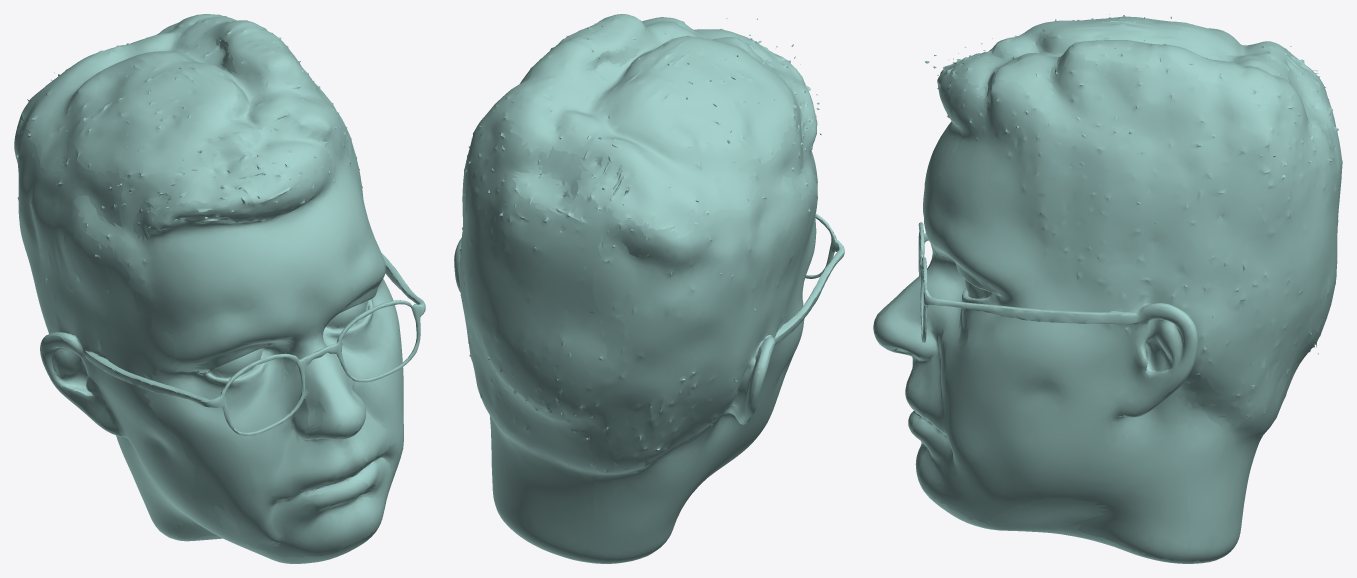
Rendered from head.glb.
The picture shows the model from 3 angles, left to right: view 1: azimuth 30°, elevation 25°; view 2: azimuth 150°, elevation 25°; view 3: azimuth 270°, elevation 25°; orthographic projection. The views are drawn at different scales.
Visible parts, largest first — view 1: Geometry; view 2: Geometry; view 3: Geometry.
Part boxes in pixels (left/top/right/bottom): Geometry: left=14, top=14, right=425, bottom=563; Geometry: left=454, top=14, right=844, bottom=563; Geometry: left=873, top=14, right=1342, bottom=563.
Size of the model in its own units: 0.9501 by 1.48 by 1.23.
